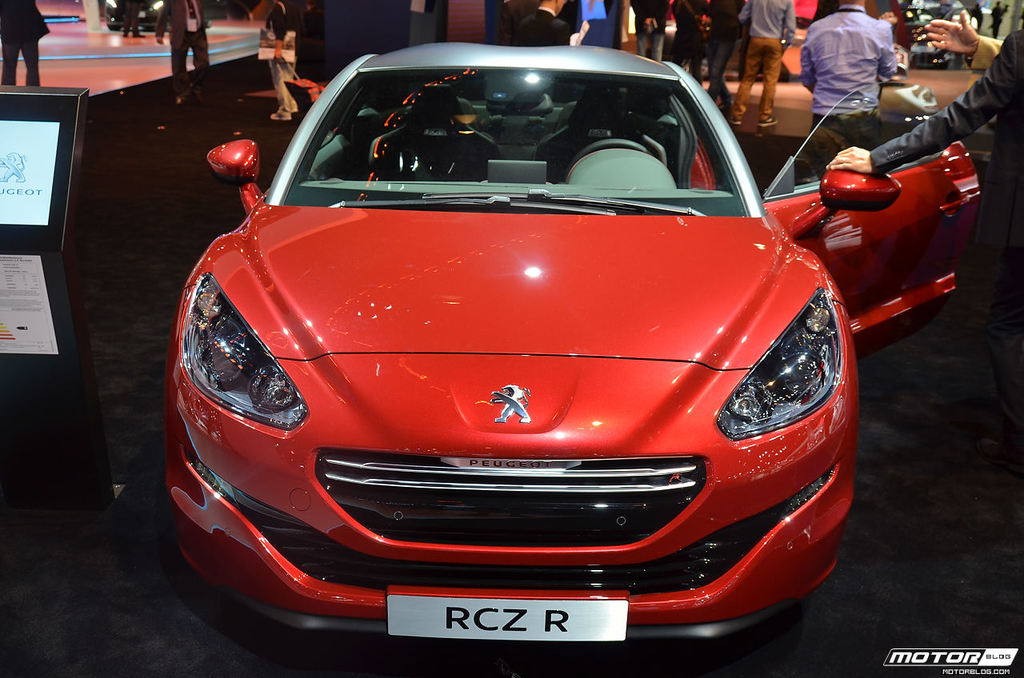Car: (155, 41, 983, 678)
